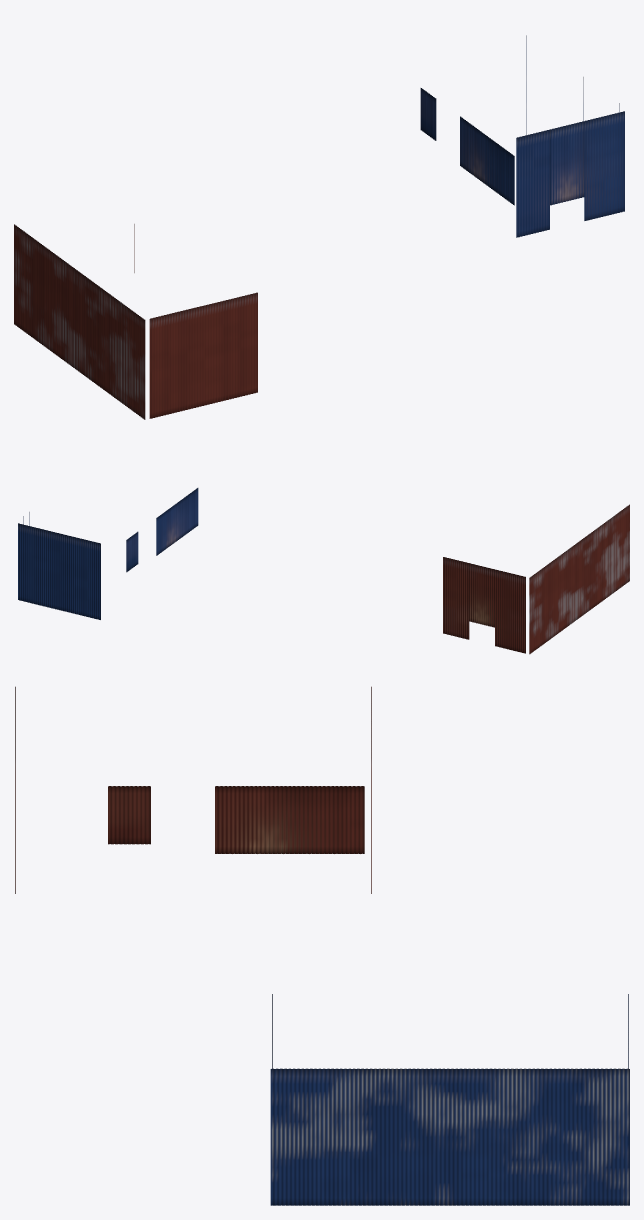
File: pithead_clad.glb
3 renders of one model, top to bottom at view 1: azimuth 30°, elevation 25°; view 2: azimuth 150°, elevation 25°; view 3: azimuth 270°, elevation 25°, orthographic. The views are drawn at different scales.
Visible parts, largest first — view 1: clad; view 2: clad; view 3: clad.
Part boxes in pixels (<box>): clad: <box>14,35,624,419</box>; clad: <box>18,488,629,654</box>; clad: <box>15,686,629,1205</box>.
Size of the model in its own units: 42.68 by 7.06 by 28.8.
